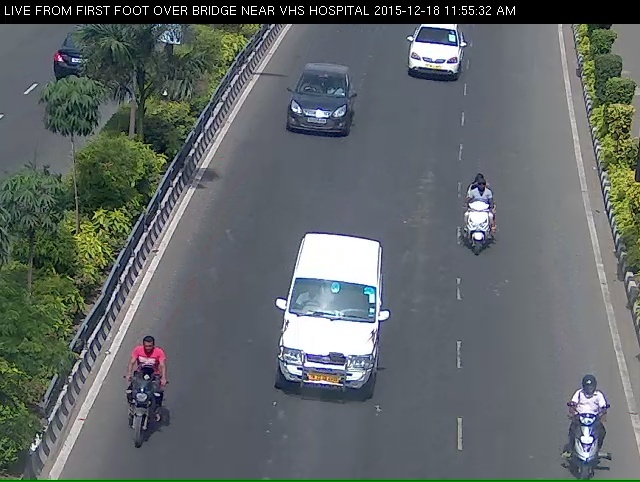Car: (269, 258, 384, 443), (269, 72, 360, 159), (393, 24, 480, 103)
Person: (460, 182, 515, 279), (103, 376, 153, 477), (556, 400, 618, 480)
